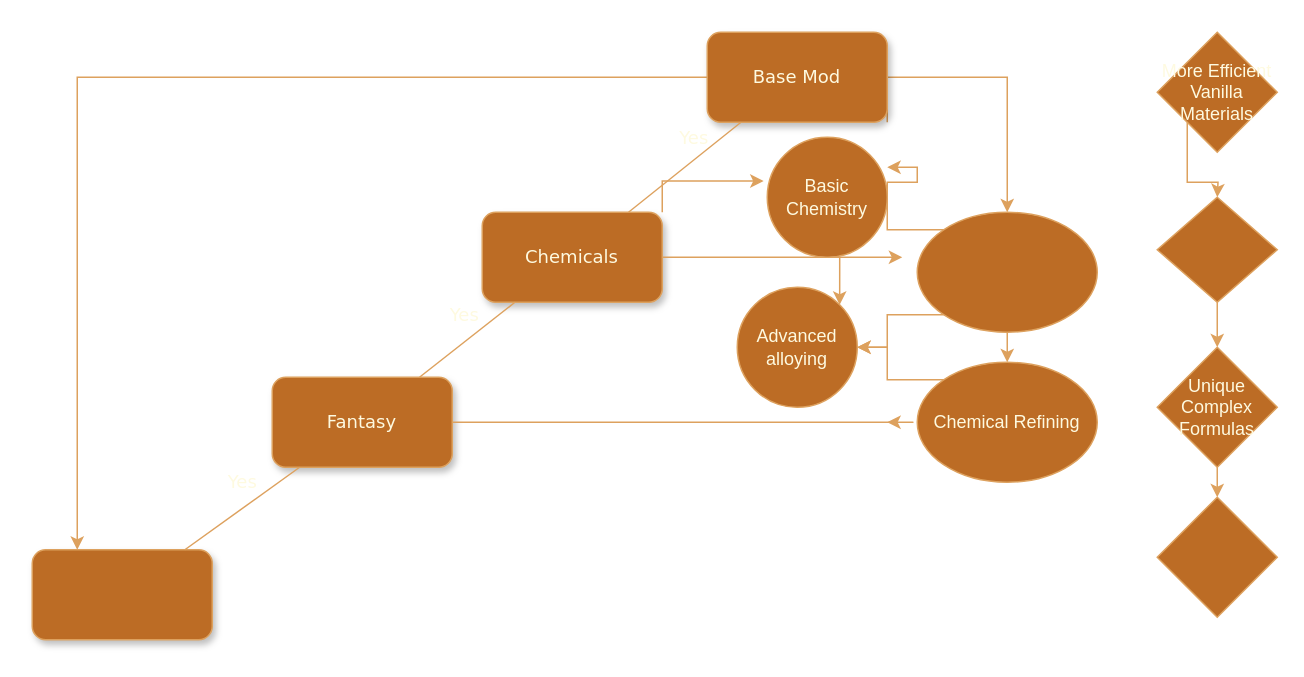
This 1304x677 diagram has some shape labels left out. Each missing label, with the centre of its shape:
"Core Drilling" goes at point (123, 596).
"More Energy Options" goes at point (1216, 249).
"Refining" goes at point (1006, 271).
"Unique End Game Objective" goes at point (1216, 556).
